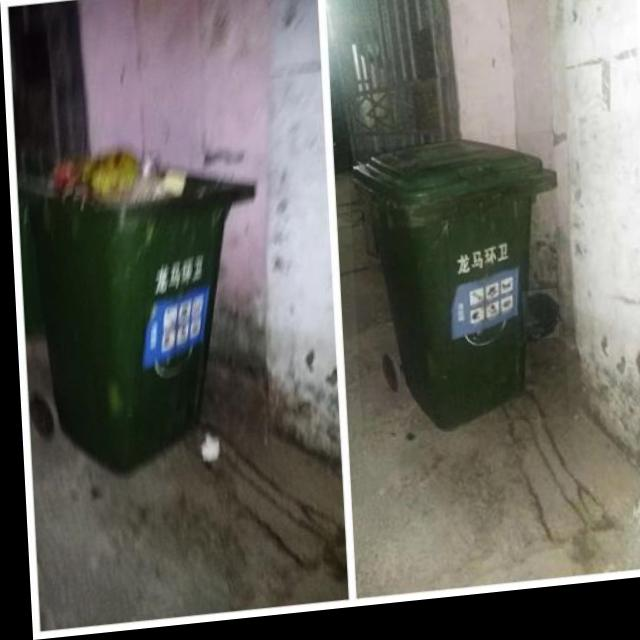garbage: (518, 300, 555, 352)
garbage_bin: (345, 141, 564, 445)
overflow: (14, 134, 264, 484)
